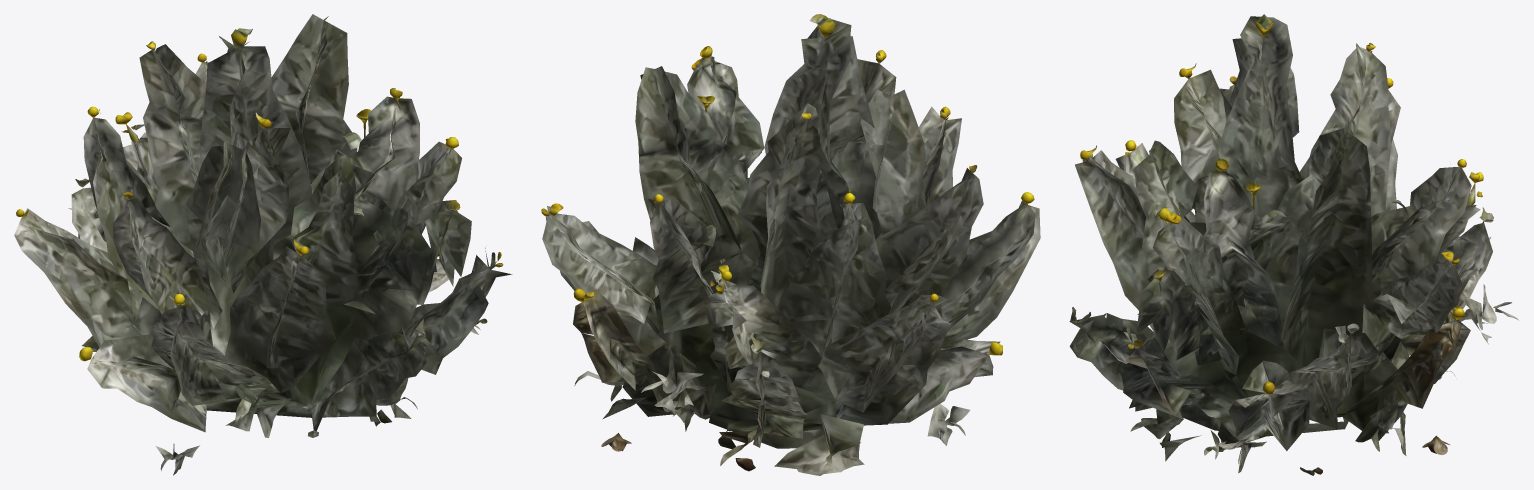
File: wormwood.glb
3 views of the same model, side by side, from view 1: azimuth 30°, elevation 25°; view 2: azimuth 150°, elevation 25°; view 3: azimuth 270°, elevation 25° (orthographic). The views are drawn at different scales.
Visible parts, largest first — view 1: tripo_node_de6808ad-a95c-406e-a89d-7b9903a6703e; view 2: tripo_node_de6808ad-a95c-406e-a89d-7b9903a6703e; view 3: tripo_node_de6808ad-a95c-406e-a89d-7b9903a6703e.
Boxes of the visible parts, bbox=[...] form: tripo_node_de6808ad-a95c-406e-a89d-7b9903a6703e: bbox=[14, 14, 512, 475]; tripo_node_de6808ad-a95c-406e-a89d-7b9903a6703e: bbox=[541, 14, 1040, 475]; tripo_node_de6808ad-a95c-406e-a89d-7b9903a6703e: bbox=[1069, 14, 1519, 475].
Size of the model in its own units: 0.9995 by 0.9956 by 0.9946.
1 material, 1 textured.
